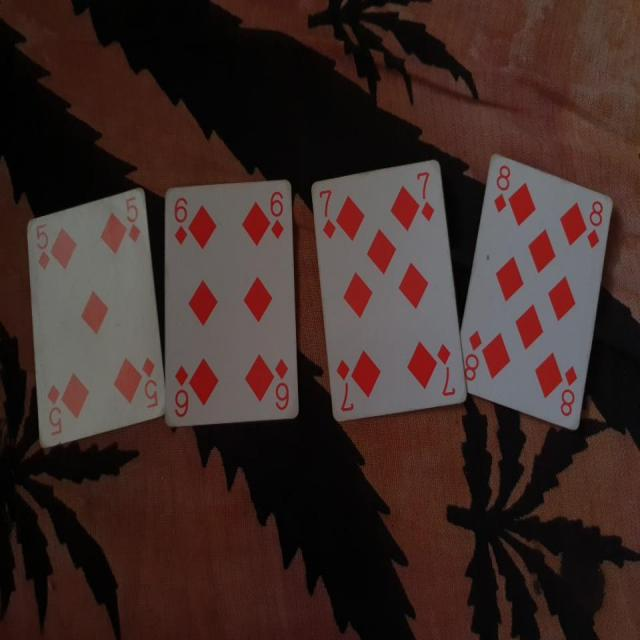5 Diamonds: (24, 178, 167, 453)
6 Diamonds: (164, 174, 302, 425)
7 Diamonds: (311, 154, 468, 423)
8 Diamonds: (462, 153, 615, 434)
